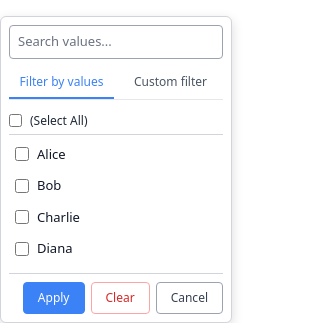
FilterDropdown › shows custom filter tab
(page scrolled)
Click the button "Custom filter" at point(170, 82), box x1=118 y1=66 x2=223 y2=98
(page scrolled)
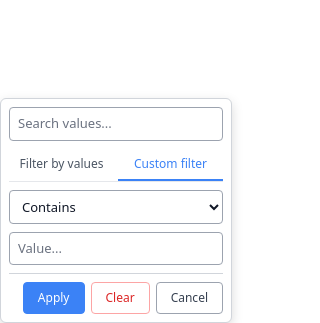
Expected: the dropdown with test id "filter-custom-type" is shown, x1=9 y1=190 x2=223 y2=224
Expected: the field with test id "filter-custom-value" is shown, x1=9 y1=232 x2=223 y2=265
